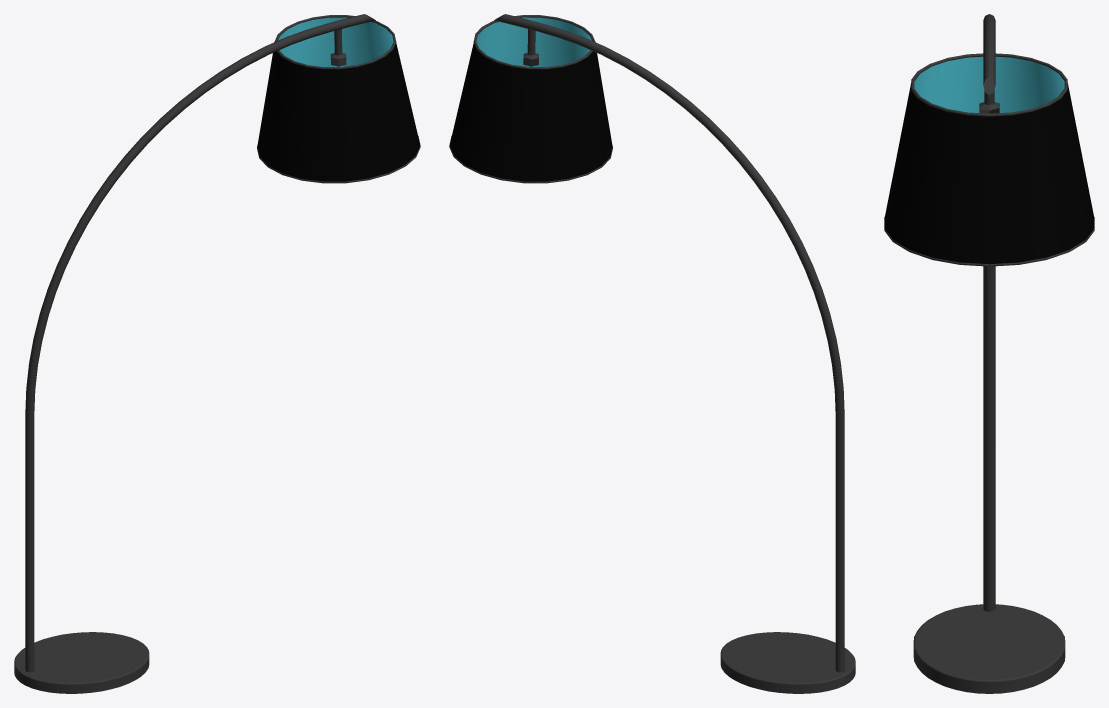
File: SM_FloorLight_015.FBX
The picture shows the model from 3 angles, left to right: view 1: azimuth 30°, elevation 25°; view 2: azimuth 150°, elevation 25°; view 3: azimuth 270°, elevation 25°; orthographic projection. The views are drawn at different scales.
Visible parts, largest first — view 1: SM_FloorLight_015; view 2: SM_FloorLight_015; view 3: SM_FloorLight_015.
Boxes of the visible parts, x1,y1,x2,y2 form: SM_FloorLight_015: (14,14,420,693); SM_FloorLight_015: (449,14,855,693); SM_FloorLight_015: (884,14,1094,693).
Size of the model in its own units: 98.59 by 35.64 by 142.
